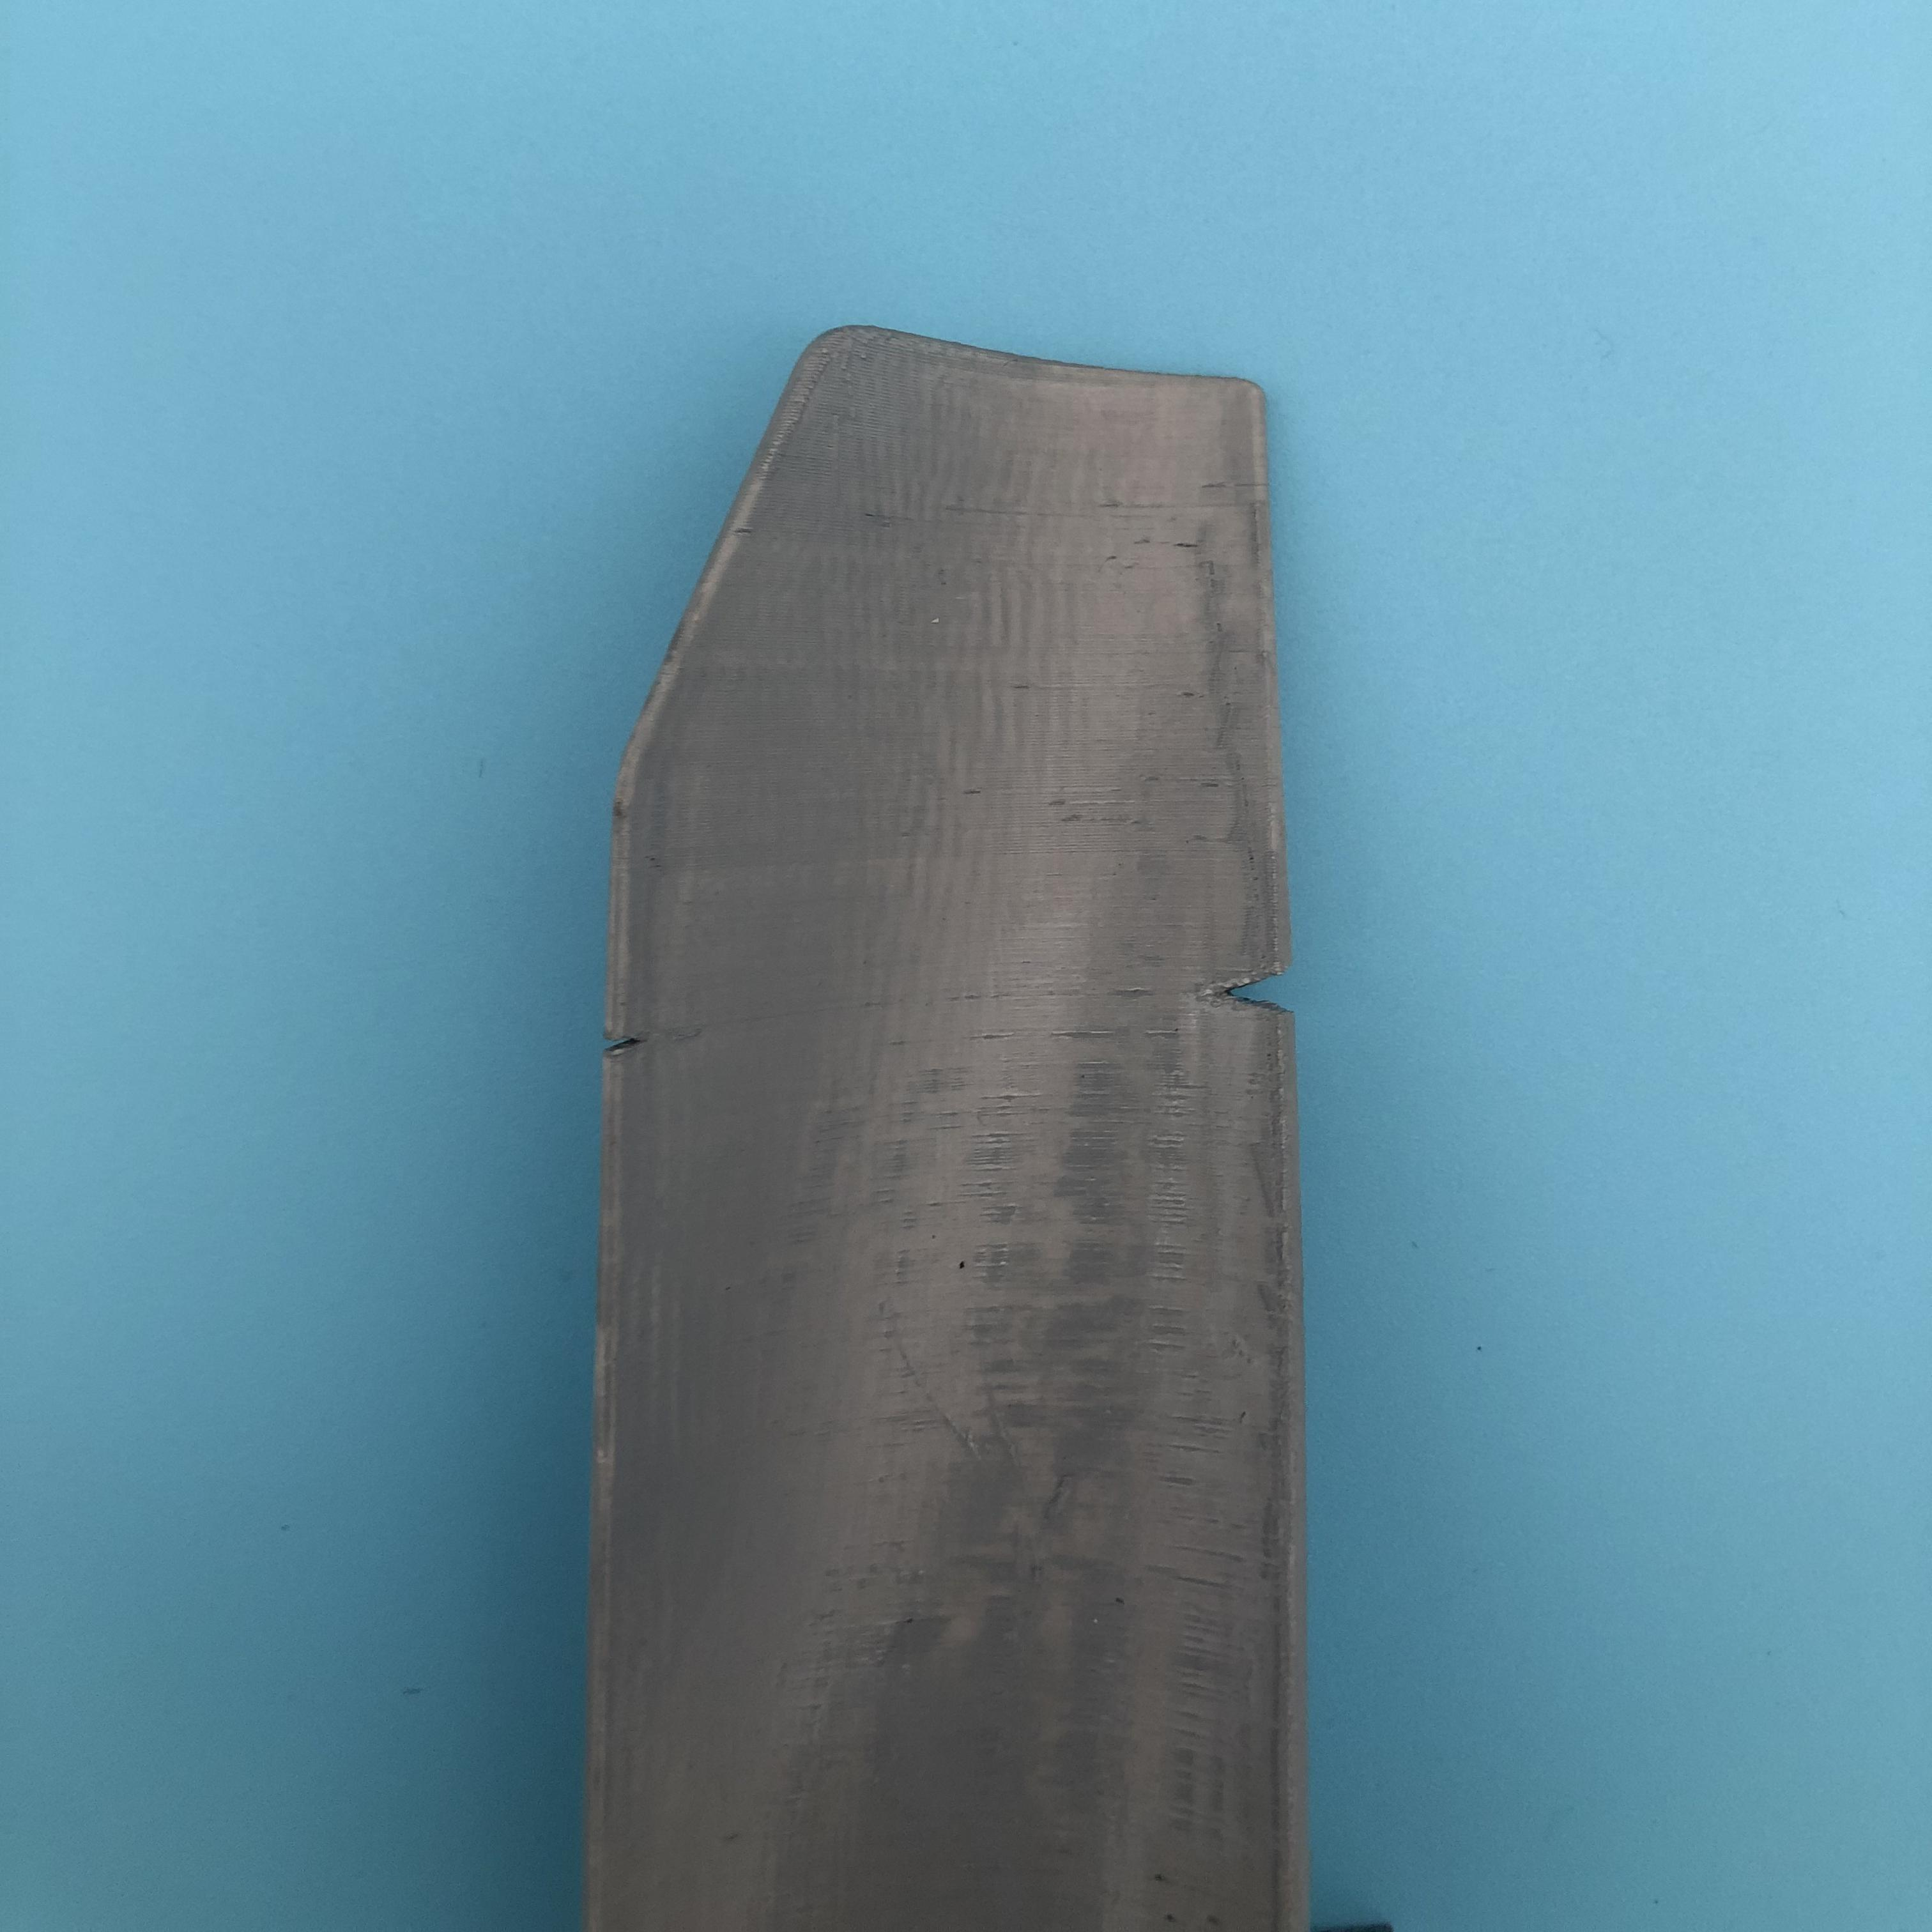groove: (1203, 943, 1295, 1047), (602, 1012, 662, 1085)
